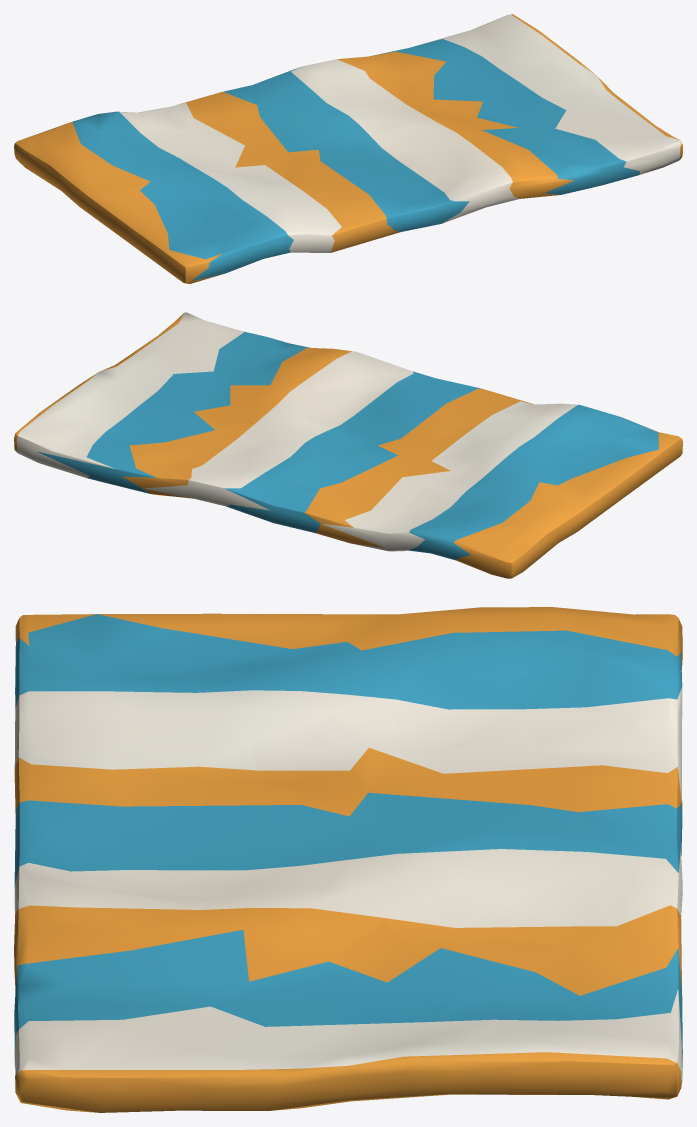
File: shore_towel_lod1.glb
3 views of the same model, one above another, from view 1: azimuth 30°, elevation 25°; view 2: azimuth 150°, elevation 25°; view 3: azimuth 270°, elevation 25° (orthographic). The views are drawn at different scales.
Parts seen in each view (by area): view 1: shore_towel.001; view 2: shore_towel.001; view 3: shore_towel.001.
Boxes of the visible parts, bbox=[...] form: shore_towel.001: bbox=[14, 14, 682, 283]; shore_towel.001: bbox=[14, 312, 682, 578]; shore_towel.001: bbox=[14, 607, 682, 1112].
Bounding box in the file's own units: 20.05 × 1.32 × 12.05.
